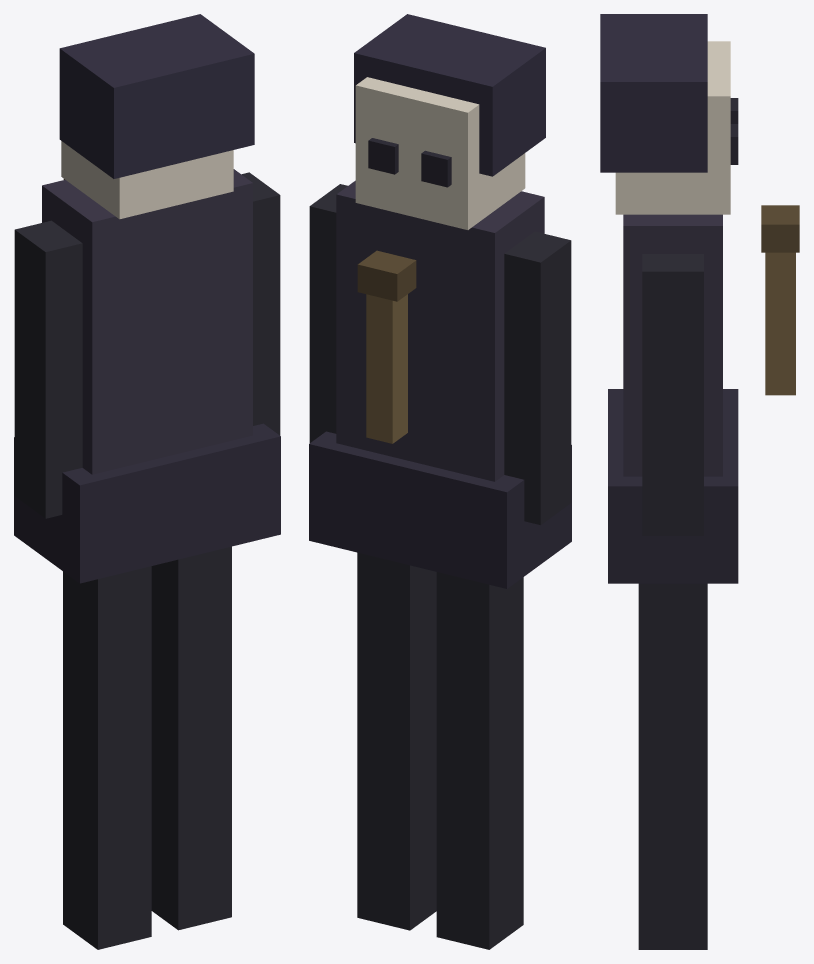
Rendered from hollow_piper.glb.
3 renders of one model, left to right at view 1: azimuth 30°, elevation 25°; view 2: azimuth 150°, elevation 25°; view 3: azimuth 270°, elevation 25°, orthographic.
Visible parts, largest first — view 1: body, leg_a, leg_b, arm_a, arm_b; view 2: body, leg_a, leg_b, arm_a, arm_b; view 3: body, leg_b, arm_b.
Boxes of the visible parts, x1=… form: body: x1=14, y1=14, x2=280, y2=583; leg_a: x1=63, y1=566, x2=151, y2=949; leg_b: x1=151, y1=546, x2=231, y2=930; arm_a: x1=14, y1=220, x2=82, y2=518; arm_b: x1=241, y1=172, x2=280, y2=435; body: x1=309, y1=14, x2=571, y2=588; leg_a: x1=436, y1=572, x2=523, y2=949; leg_b: x1=357, y1=552, x2=436, y2=930; arm_a: x1=504, y1=231, x2=571, y2=525; arm_b: x1=309, y1=184, x2=347, y2=442; body: x1=600, y1=14, x2=799, y2=583; leg_b: x1=638, y1=583, x2=707, y2=949; arm_b: x1=642, y1=254, x2=703, y2=535.
Size of the model in its own units: 0.7 by 2.5 by 0.52.
